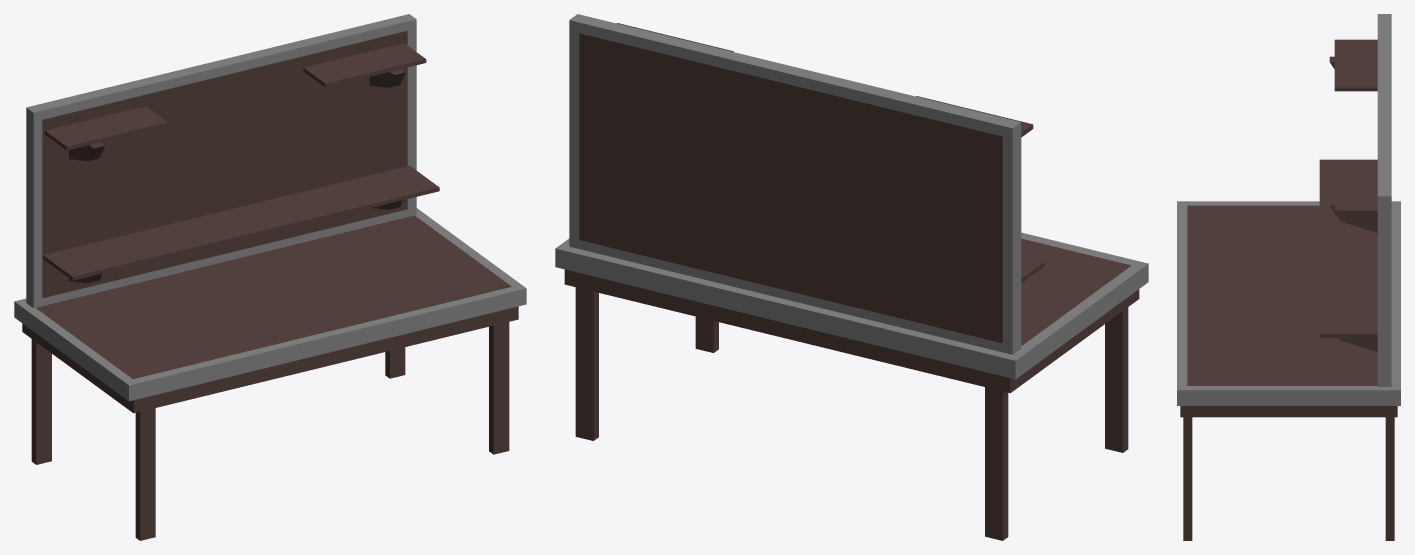
The model's file is Workbench_weapons.fbx.
The picture shows the model from 3 angles, left to right: view 1: azimuth 30°, elevation 25°; view 2: azimuth 150°, elevation 25°; view 3: azimuth 270°, elevation 25°; orthographic projection. The views are drawn at different scales.
Parts seen in each view (by area): view 1: Cube.059; view 2: Cube.059; view 3: Cube.059.
Boxes of the visible parts, bbox=[...] form: Cube.059: bbox=[14, 14, 526, 540]; Cube.059: bbox=[555, 14, 1148, 540]; Cube.059: bbox=[1177, 14, 1400, 540].
Bounding box in the file's own units: 200 × 172 × 100.
